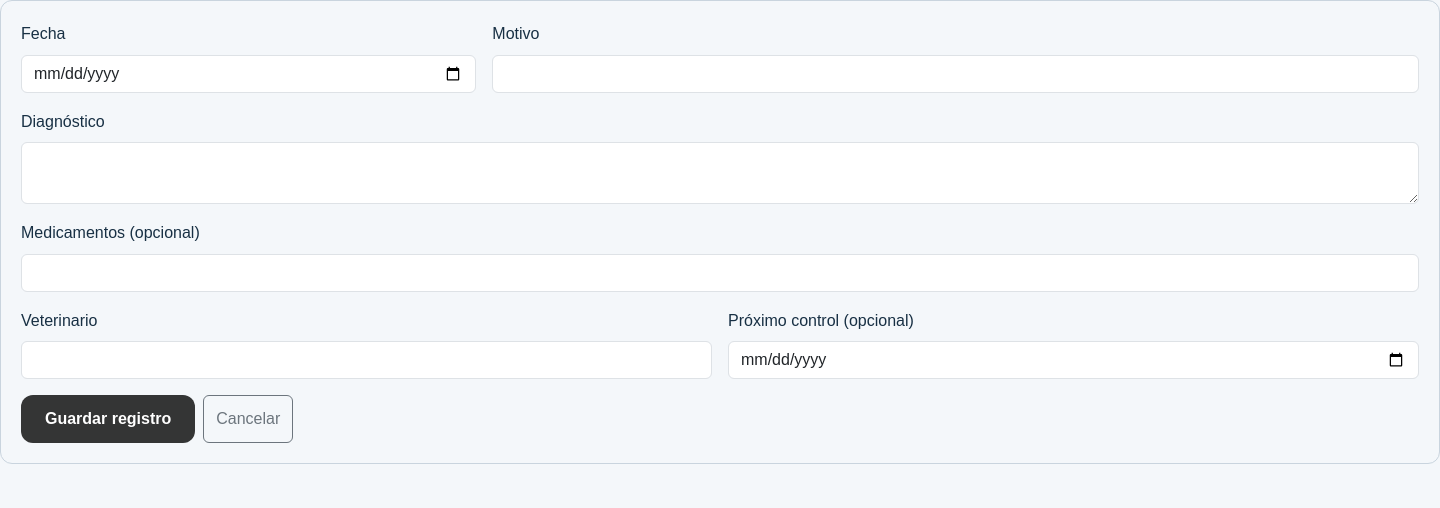
Test: FormularioRegistroClinico (consultas) › rechaza un próximo control que no es posterior a la consulta
Type "2025-05-10" into the date field labelled "Fecha".
click(249, 74); type("2025-05-10")  # box [21,55,476,93]
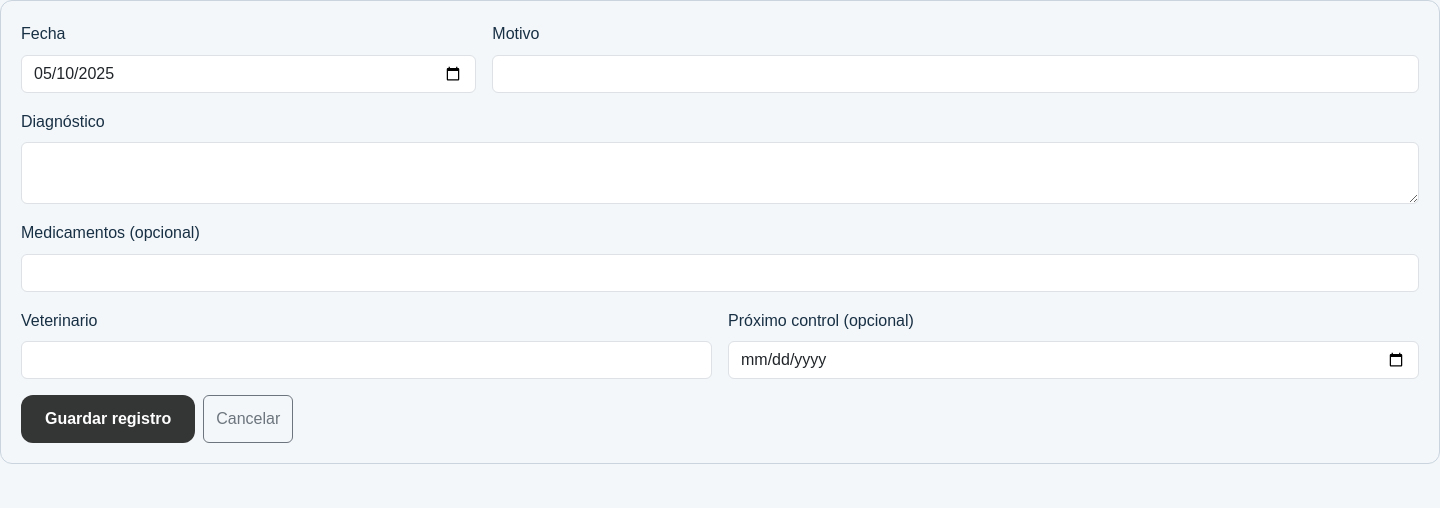
Type "Control" into the field labelled "Motivo".
click(956, 74); type("Control")  # box [492,55,1419,93]
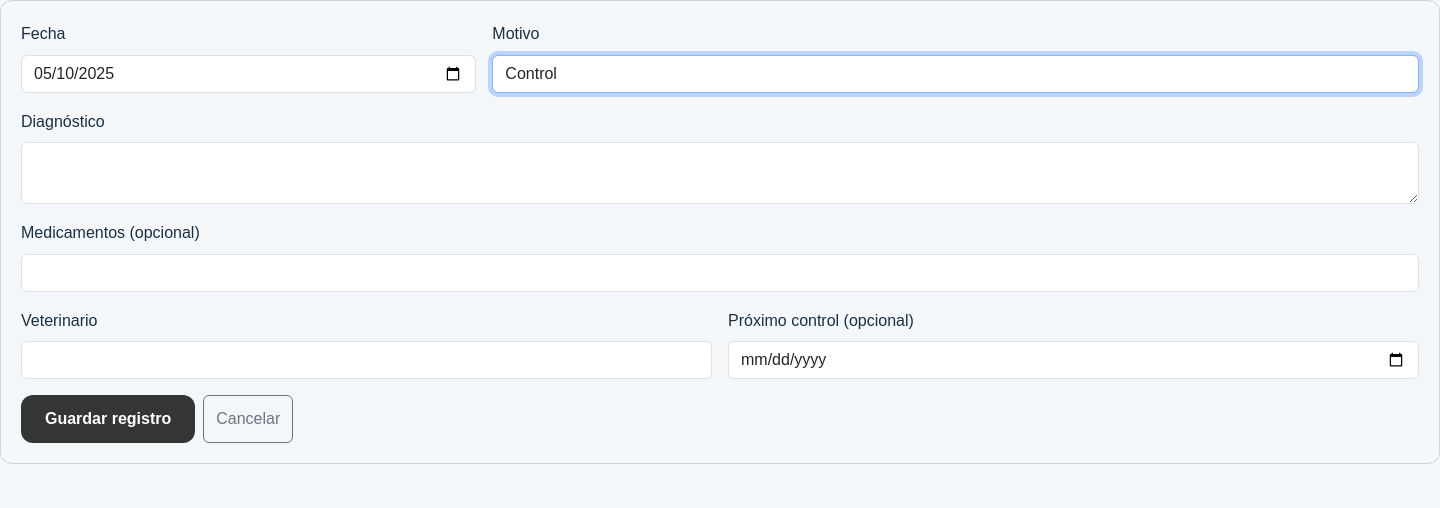
Type "Sano" into the text box labelled "Diagnóstico".
click(720, 173); type("Sano")  # box [21,142,1419,204]
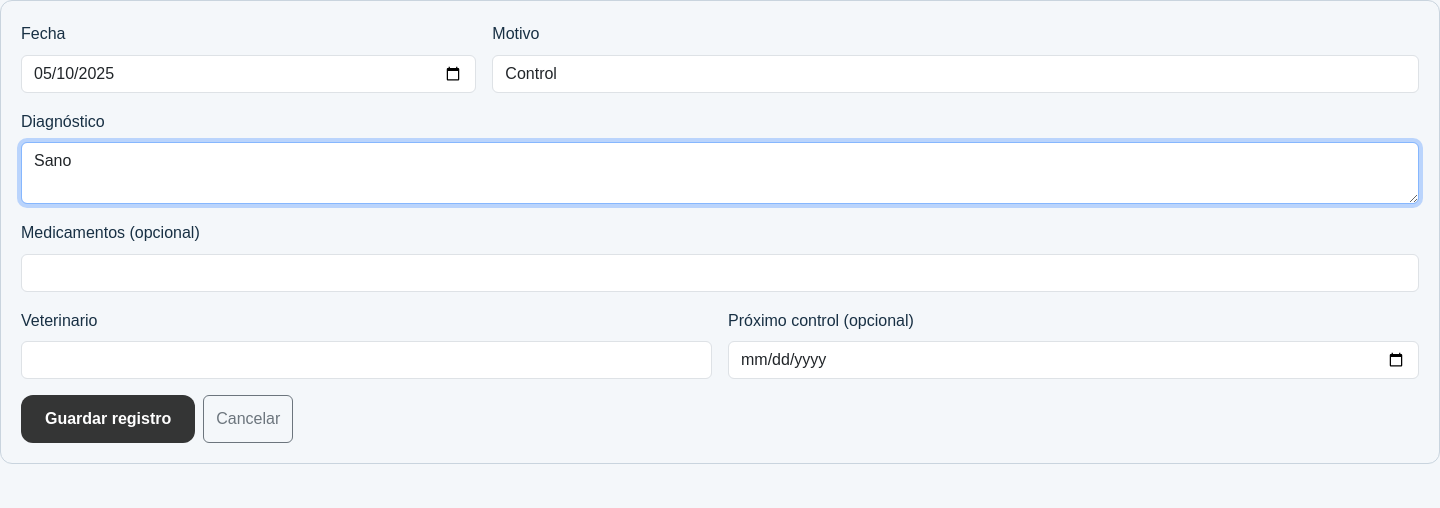
Type "Dra. Muñoz" into the field labelled "Veterinario".
click(366, 360); type("Dra. Muñoz")  # box [21,341,712,379]
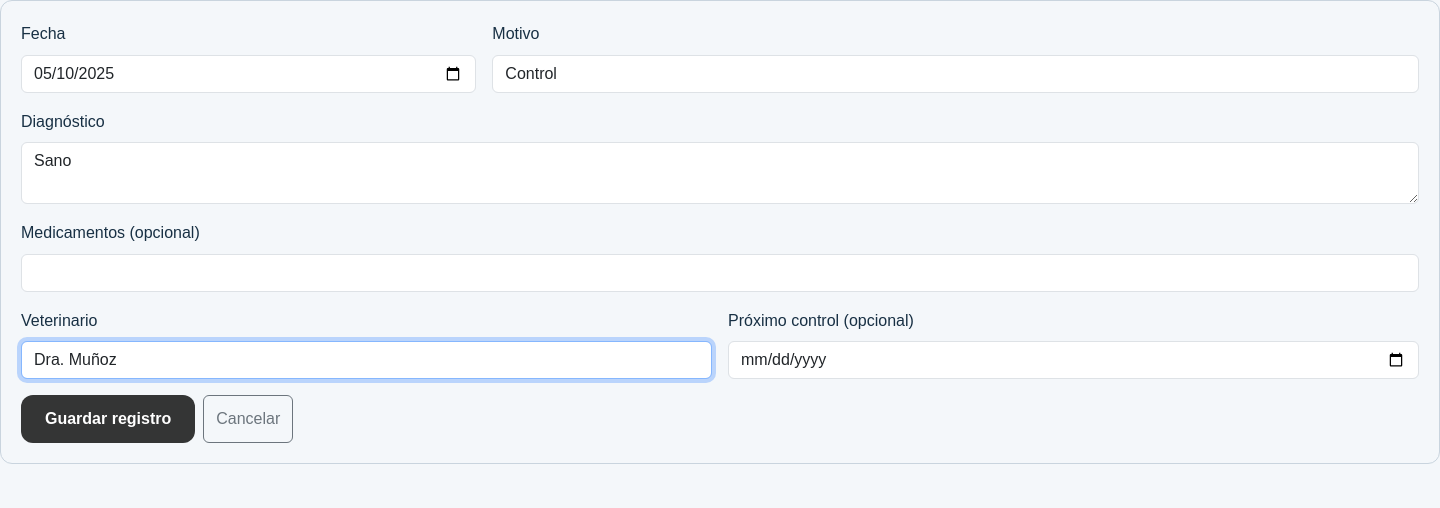
Type "2025-05-01" into the date field labelled "Próximo control (opcional)".
click(1074, 360); type("2025-05-01")  # box [728,341,1419,379]
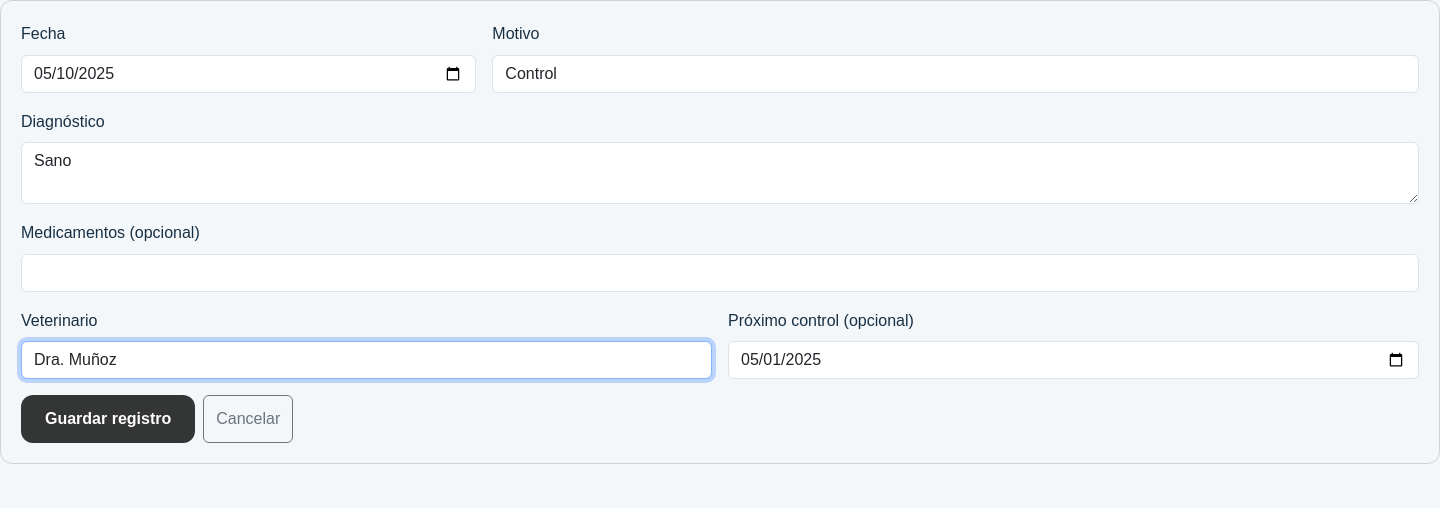
Click the button "Guardar registro".
click(108, 419)  # box [21,395,195,443]
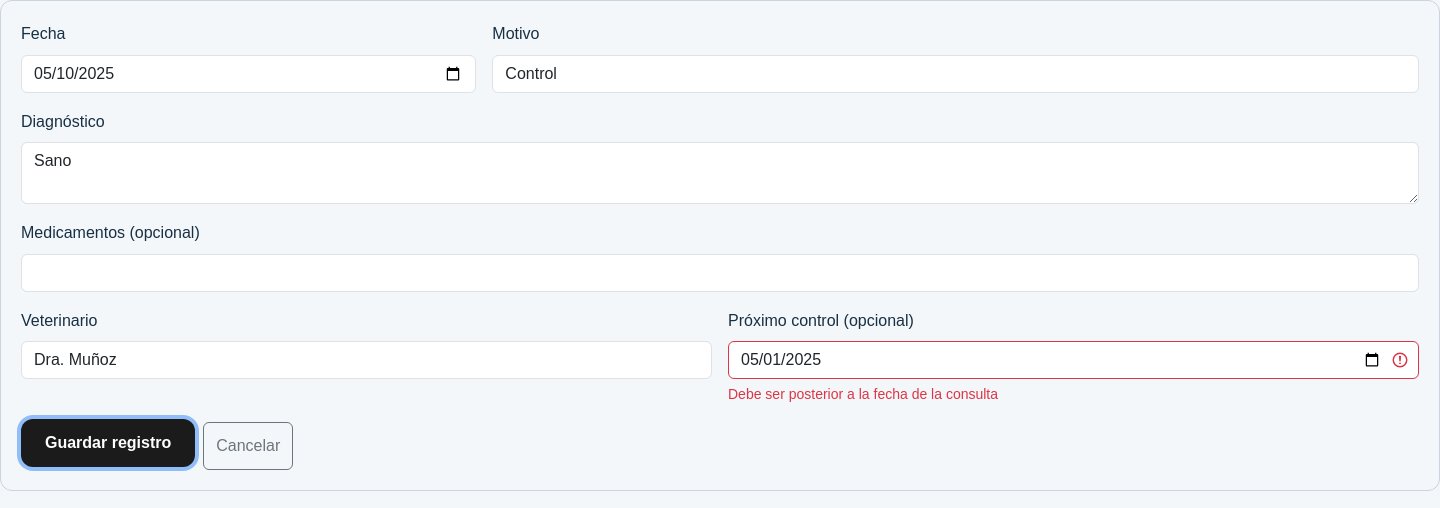
Now the text "Debe ser posterior a la fecha de la consulta" is shown, box [728,386,998,402]
